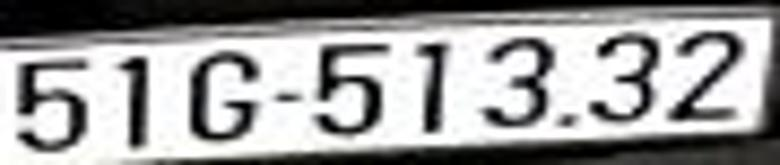-: (274, 91, 303, 102)
.: (560, 109, 579, 130)
1: (412, 39, 449, 134), (115, 54, 150, 152)
2: (667, 29, 744, 126)
3: (481, 36, 554, 133), (591, 28, 660, 129)
5: (316, 39, 392, 140), (14, 58, 92, 152)
G: (187, 49, 258, 141)
